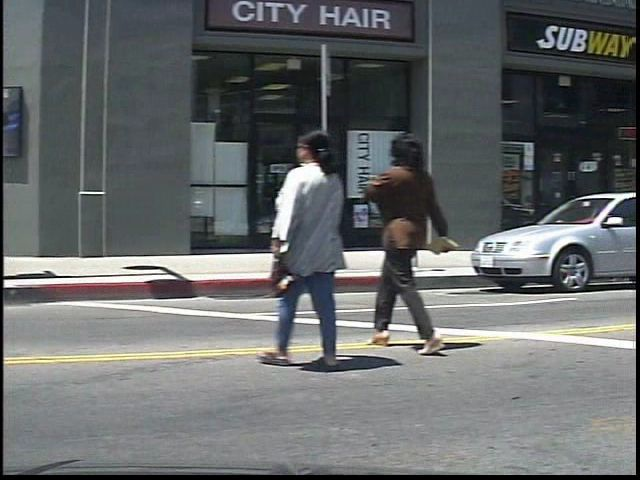person: (271, 123, 363, 373), (371, 123, 468, 356)
